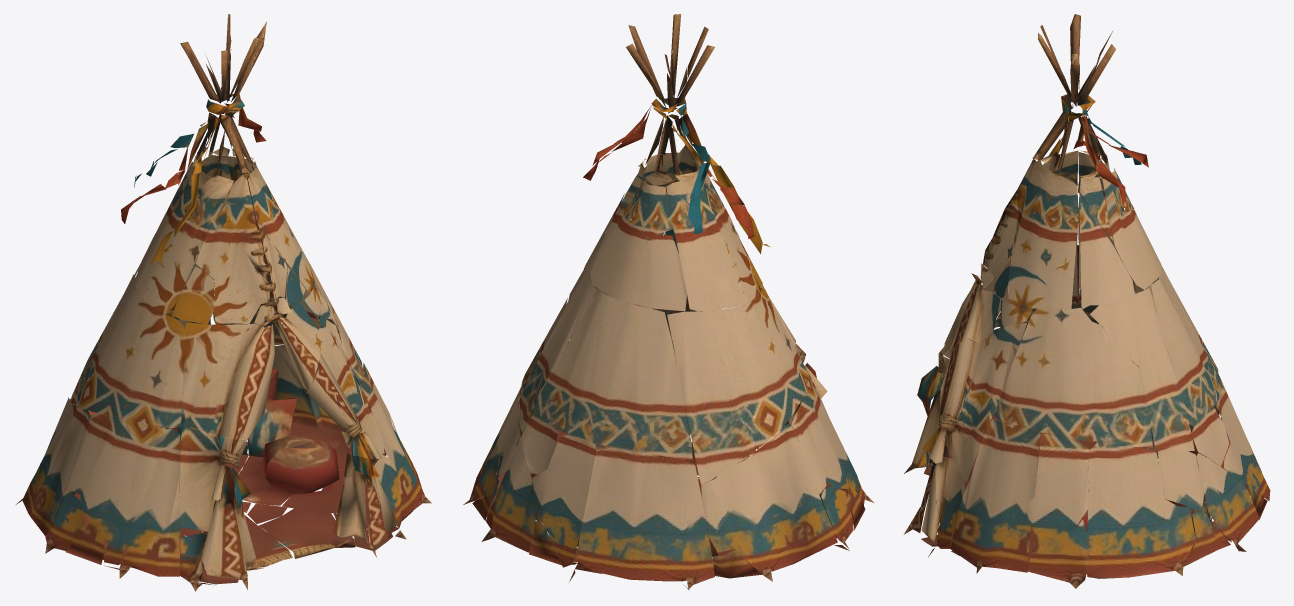
Rendered from teepee.glb.
3 views of the same model, side by side, from view 1: azimuth 30°, elevation 25°; view 2: azimuth 150°, elevation 25°; view 3: azimuth 270°, elevation 25° (orthographic).
Parts seen in each view (by area): view 1: tripo_node_7dd5efe7-f980-4b74-8f18-1d2f3763456d; view 2: tripo_node_7dd5efe7-f980-4b74-8f18-1d2f3763456d; view 3: tripo_node_7dd5efe7-f980-4b74-8f18-1d2f3763456d.
Boxes of the visible parts, x1,y1,x2,y2 form: tripo_node_7dd5efe7-f980-4b74-8f18-1d2f3763456d: [16, 14, 431, 591]; tripo_node_7dd5efe7-f980-4b74-8f18-1d2f3763456d: [463, 14, 873, 590]; tripo_node_7dd5efe7-f980-4b74-8f18-1d2f3763456d: [903, 14, 1270, 588].
Bounding box in the file's own units: 1.63 × 2.09 × 1.49.
Materials: 1 (1 with a texture image).
